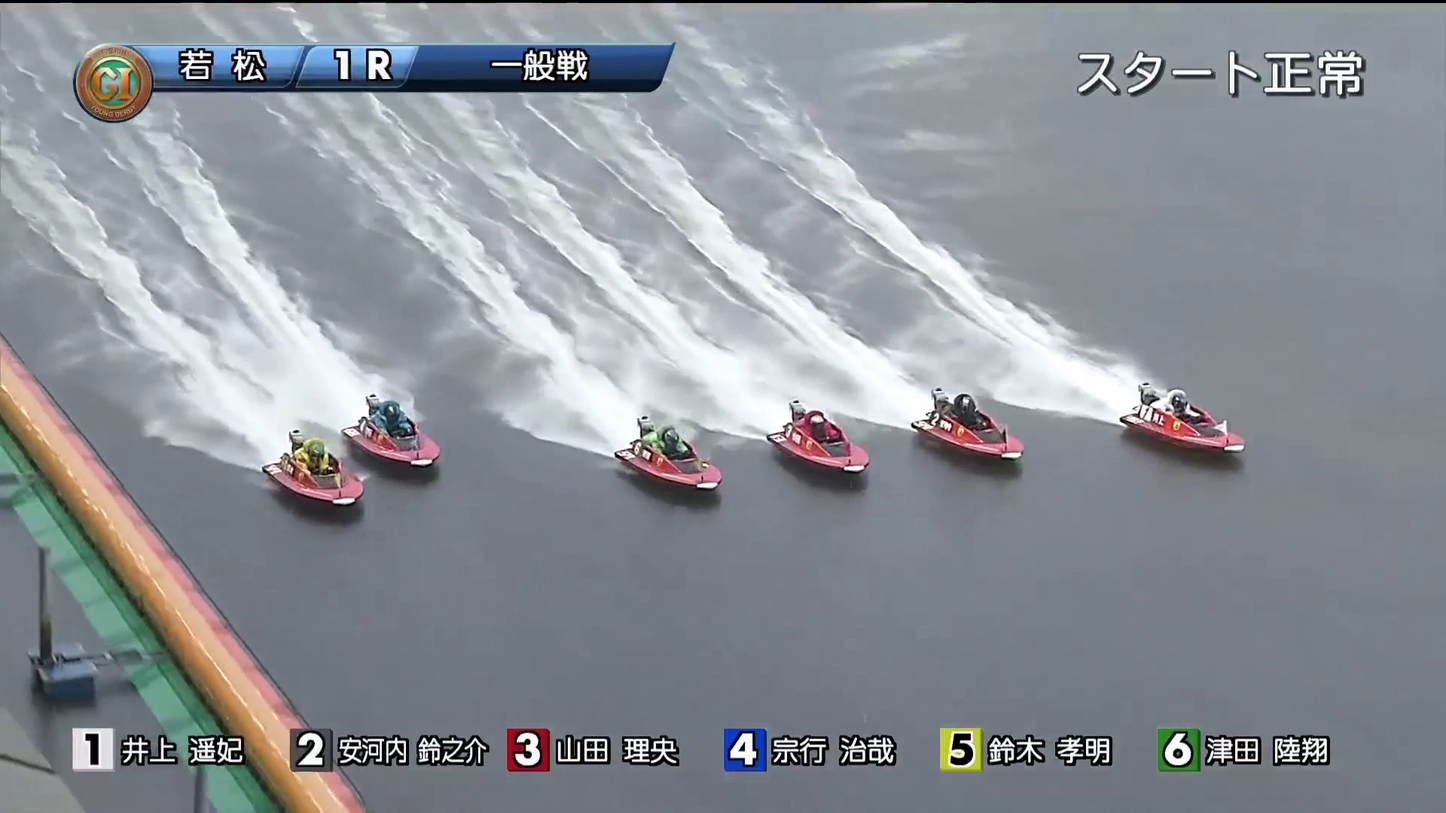１号艇: (1138, 374, 1247, 421)
２号艇: (923, 386, 1030, 434)
３号艇: (770, 425, 883, 467)
４号艇: (627, 435, 739, 488)
５号艇: (341, 409, 463, 464)
６号艇: (288, 469, 388, 526)
